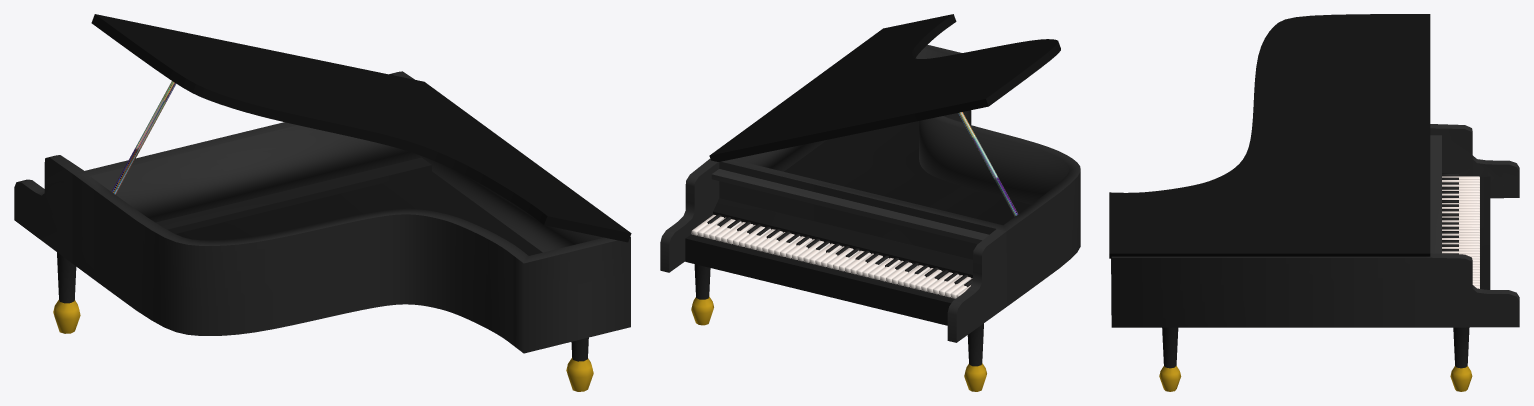
Rendered from Piano.fbx.
3 views of the same model, side by side, from view 1: azimuth 30°, elevation 25°; view 2: azimuth 150°, elevation 25°; view 3: azimuth 270°, elevation 25° (orthographic). The views are drawn at different scales.
Visible parts, largest first — view 1: Plane.004; view 2: Plane.004; view 3: Plane.004.
Boxes of the visible parts, left/top/right/bottom form: Plane.004: left=14, top=14, right=631, bottom=391; Plane.004: left=660, top=14, right=1080, bottom=391; Plane.004: left=1109, top=14, right=1519, bottom=391.
Bounding box in the file's own units: 213 × 189 × 276.
